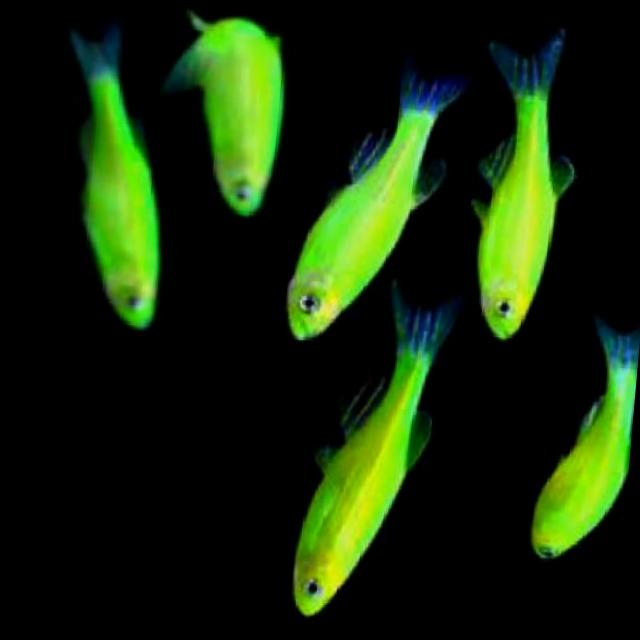ZebraFish: (290, 278, 462, 631), (283, 58, 463, 356), (462, 24, 586, 342)
